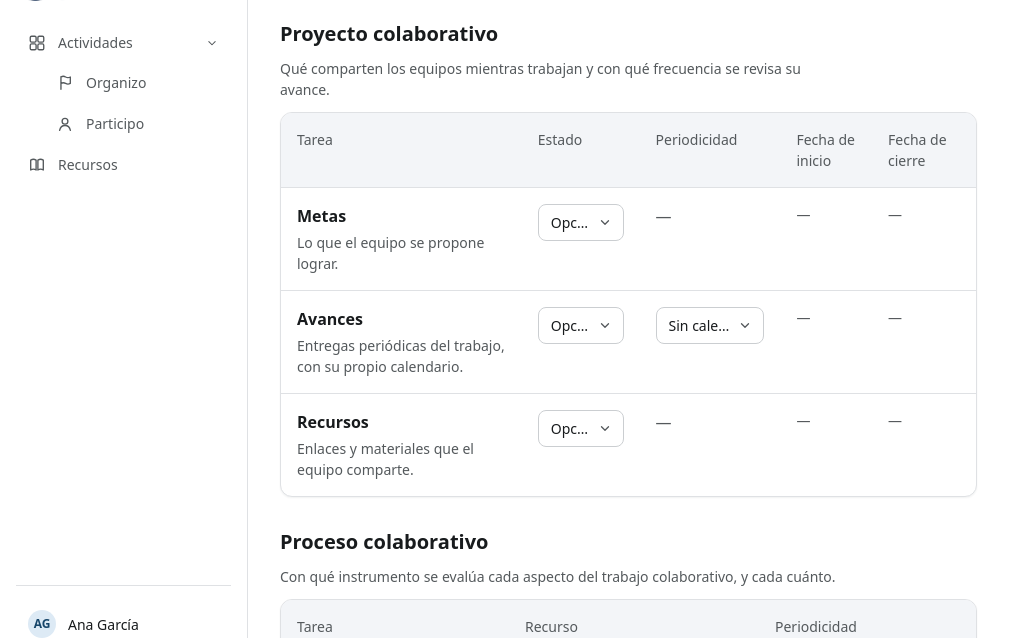
PantallaConfiguracion › Proyecto colaborativo: calendario de avances › muestra el error del servidor si no puede generar el calendario
This screenshot has width=1024, height=638.
(page scrolled)
Select "Semanal" in the 4th dropdown named "Periodicidad de Avances" at (710, 325), box [656, 306, 764, 344]
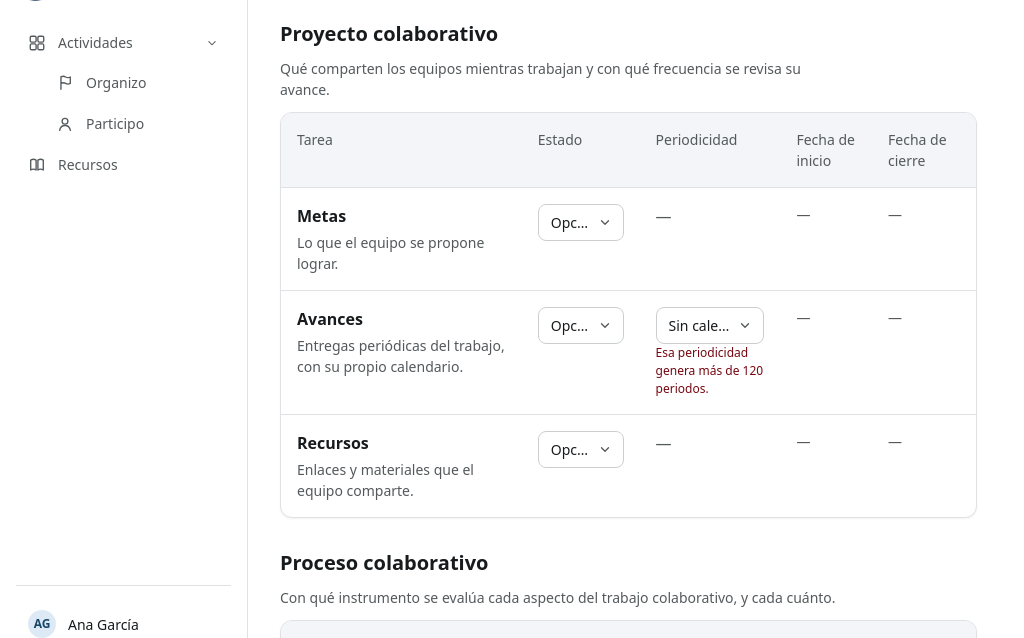
Now the text "Esa periodicidad genera más de 120 periodos." is shown, box [656, 344, 764, 398]
